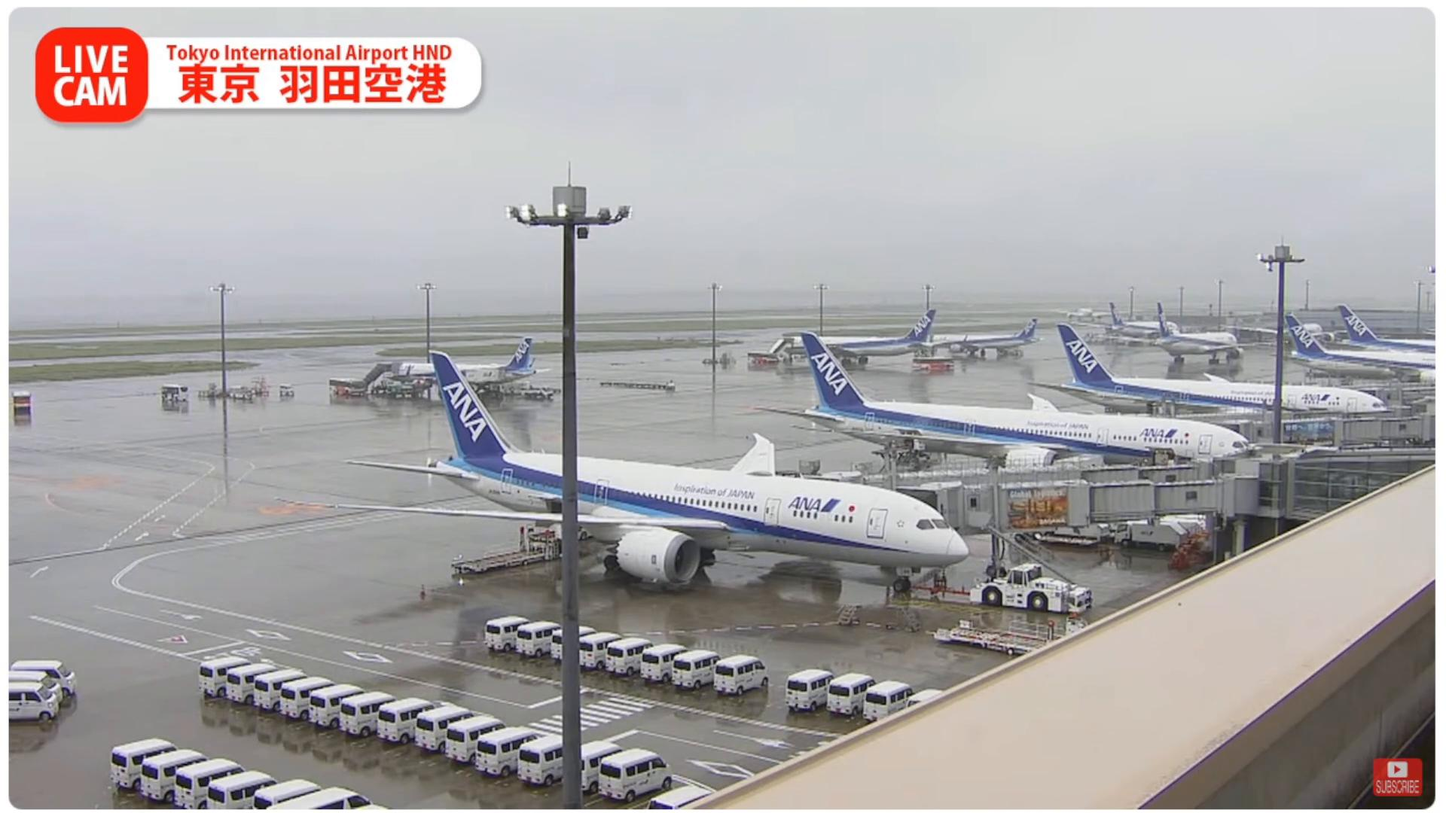APS: (969, 561, 1094, 613)
Aerobridge: (894, 451, 1258, 584), (795, 442, 1213, 488)
Airplane: (333, 353, 970, 591)
JCPL: (933, 614, 1090, 658), (452, 521, 562, 576)
Window: (1294, 452, 1436, 515)
